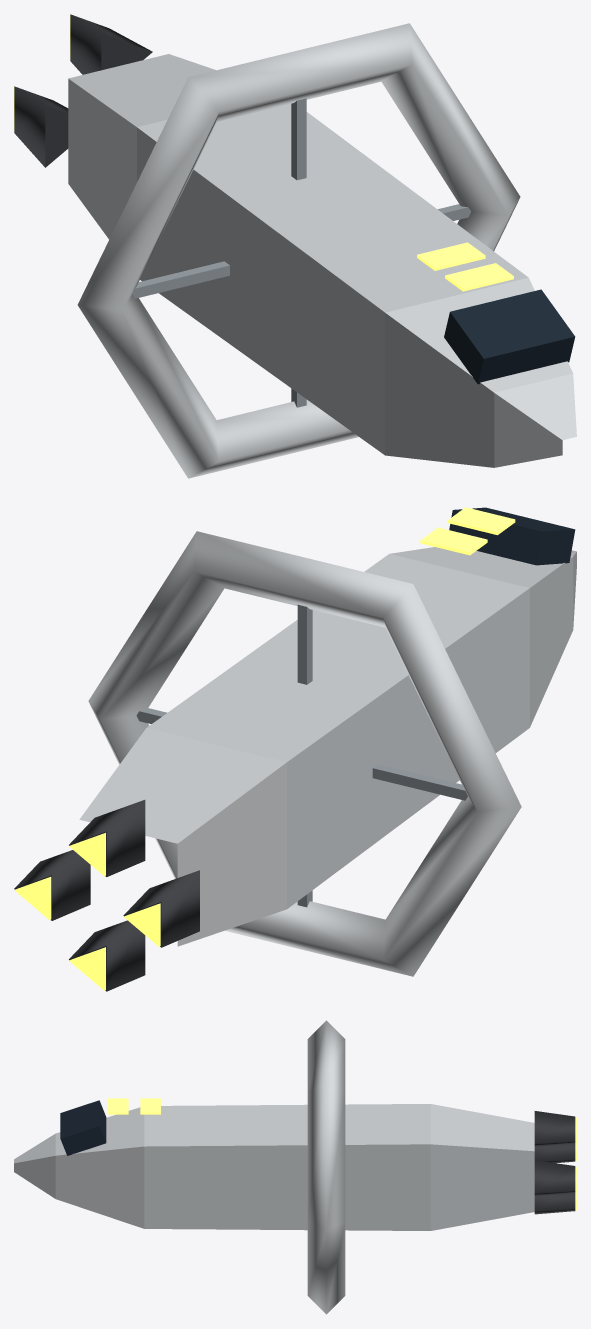
Rendered from space_ship_colony_transport_mk1_lod2.glb.
The picture shows the model from 3 angles, top to bottom: view 1: azimuth 30°, elevation 25°; view 2: azimuth 150°, elevation 25°; view 3: azimuth 270°, elevation 25°; orthographic projection. The views are drawn at different scales.
Parts seen in each view (by area): view 1: body, habitat_ring_0, engine_2, engine_1; view 2: body, habitat_ring_0, engine_1, engine_2, engine_3, engine_0; view 3: body, habitat_ring_0, engine_0, engine_1, engine_3, engine_2.
Boxes of the visible parts, x1,y1,x2,y2 form: body: (68, 54, 576, 467); habitat_ring_0: (77, 23, 520, 478); engine_2: (14, 86, 68, 167); engine_1: (70, 14, 152, 74); body: (79, 507, 576, 946); habitat_ring_0: (88, 531, 521, 976); engine_1: (69, 800, 145, 876); engine_2: (123, 870, 199, 947); engine_3: (69, 920, 145, 991); engine_0: (14, 850, 90, 920); body: (14, 1098, 534, 1230); habitat_ring_0: (307, 1020, 345, 1314); engine_0: (534, 1160, 576, 1196); engine_1: (534, 1111, 576, 1146); engine_3: (534, 1192, 576, 1214); engine_2: (534, 1143, 576, 1163).
Bounding box in the file's own units: 22.67 × 19.63 × 43.24.
